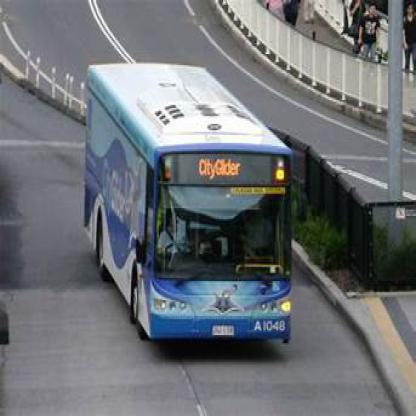bus: (80, 68, 296, 344)
